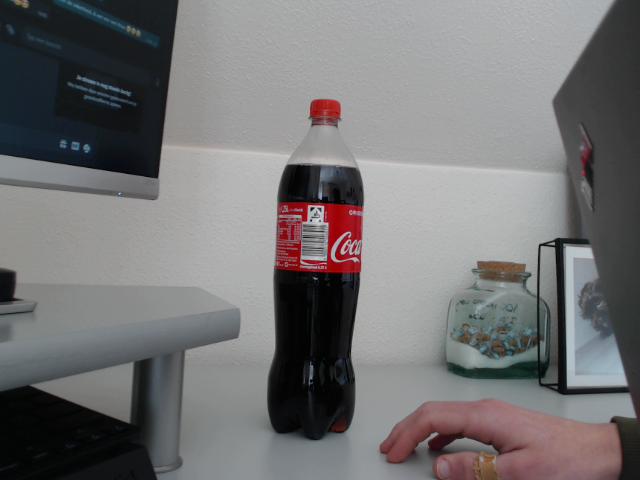bottle: (268, 100, 364, 441)
